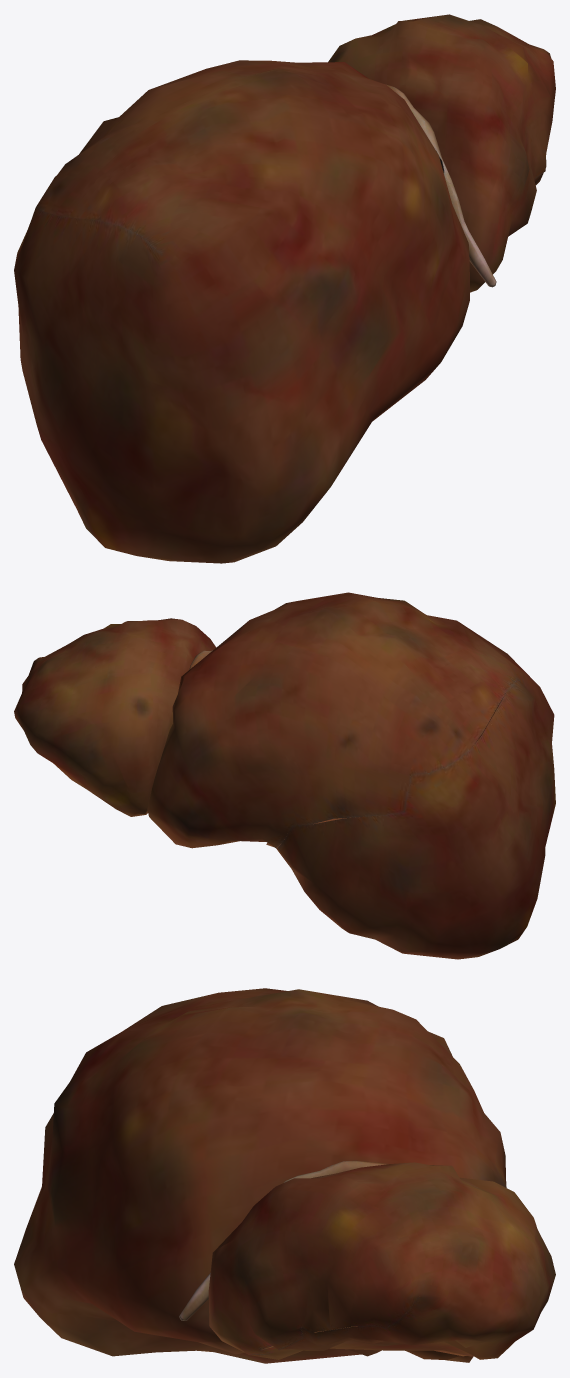
File: cirrhoticLiver.glb
3 renders of one model, top to bottom at view 1: azimuth 30°, elevation 25°; view 2: azimuth 150°, elevation 25°; view 3: azimuth 270°, elevation 25°, orthographic. The views are drawn at different scales.
Parts seen in each view (by area): view 1: Object_3; view 2: Object_3; view 3: Object_3.
Part boxes in pixels (x1,y1,x2,y2): Object_3: (14,14,555,563); Object_3: (14,592,555,959); Object_3: (14,988,555,1363).
Bounding box in the file's own units: 2.26 × 1.55 × 1.76.
3 materials, 3 textured.
